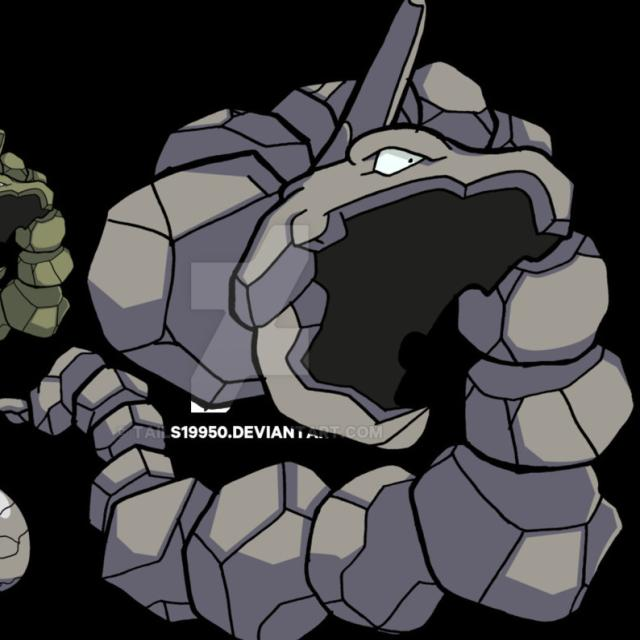Onix: (81, 3, 640, 640)
